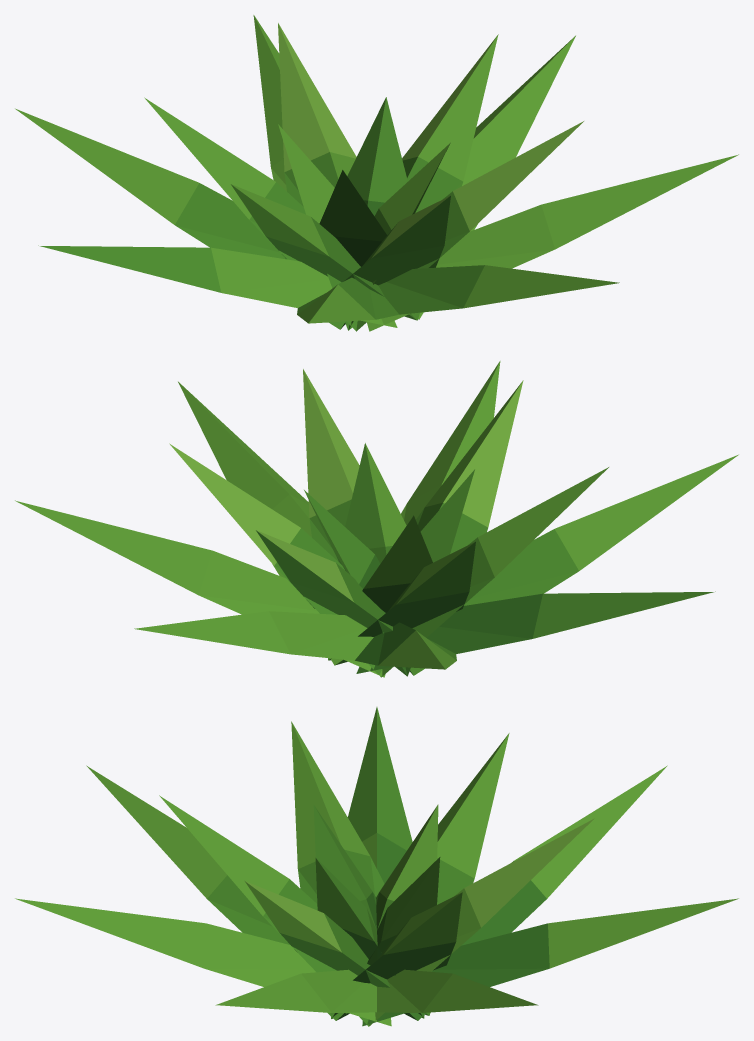
File: SM_AGAVE_PLANT_01.fbx
The picture shows the model from 3 angles, top to bottom: view 1: azimuth 30°, elevation 25°; view 2: azimuth 150°, elevation 25°; view 3: azimuth 270°, elevation 25°; orthographic projection.
Parts seen in each view (by area): view 1: AGAVE_PLANT_01; view 2: AGAVE_PLANT_01; view 3: AGAVE_PLANT_01.
Boxes of the visible parts, left/top/right/bottom form: AGAVE_PLANT_01: left=15, top=15, right=738, bottom=331; AGAVE_PLANT_01: left=15, top=361, right=738, bottom=677; AGAVE_PLANT_01: left=15, top=707, right=738, bottom=1026.
Size of the model in its own units: 1.08 by 1.1 by 0.3235.
